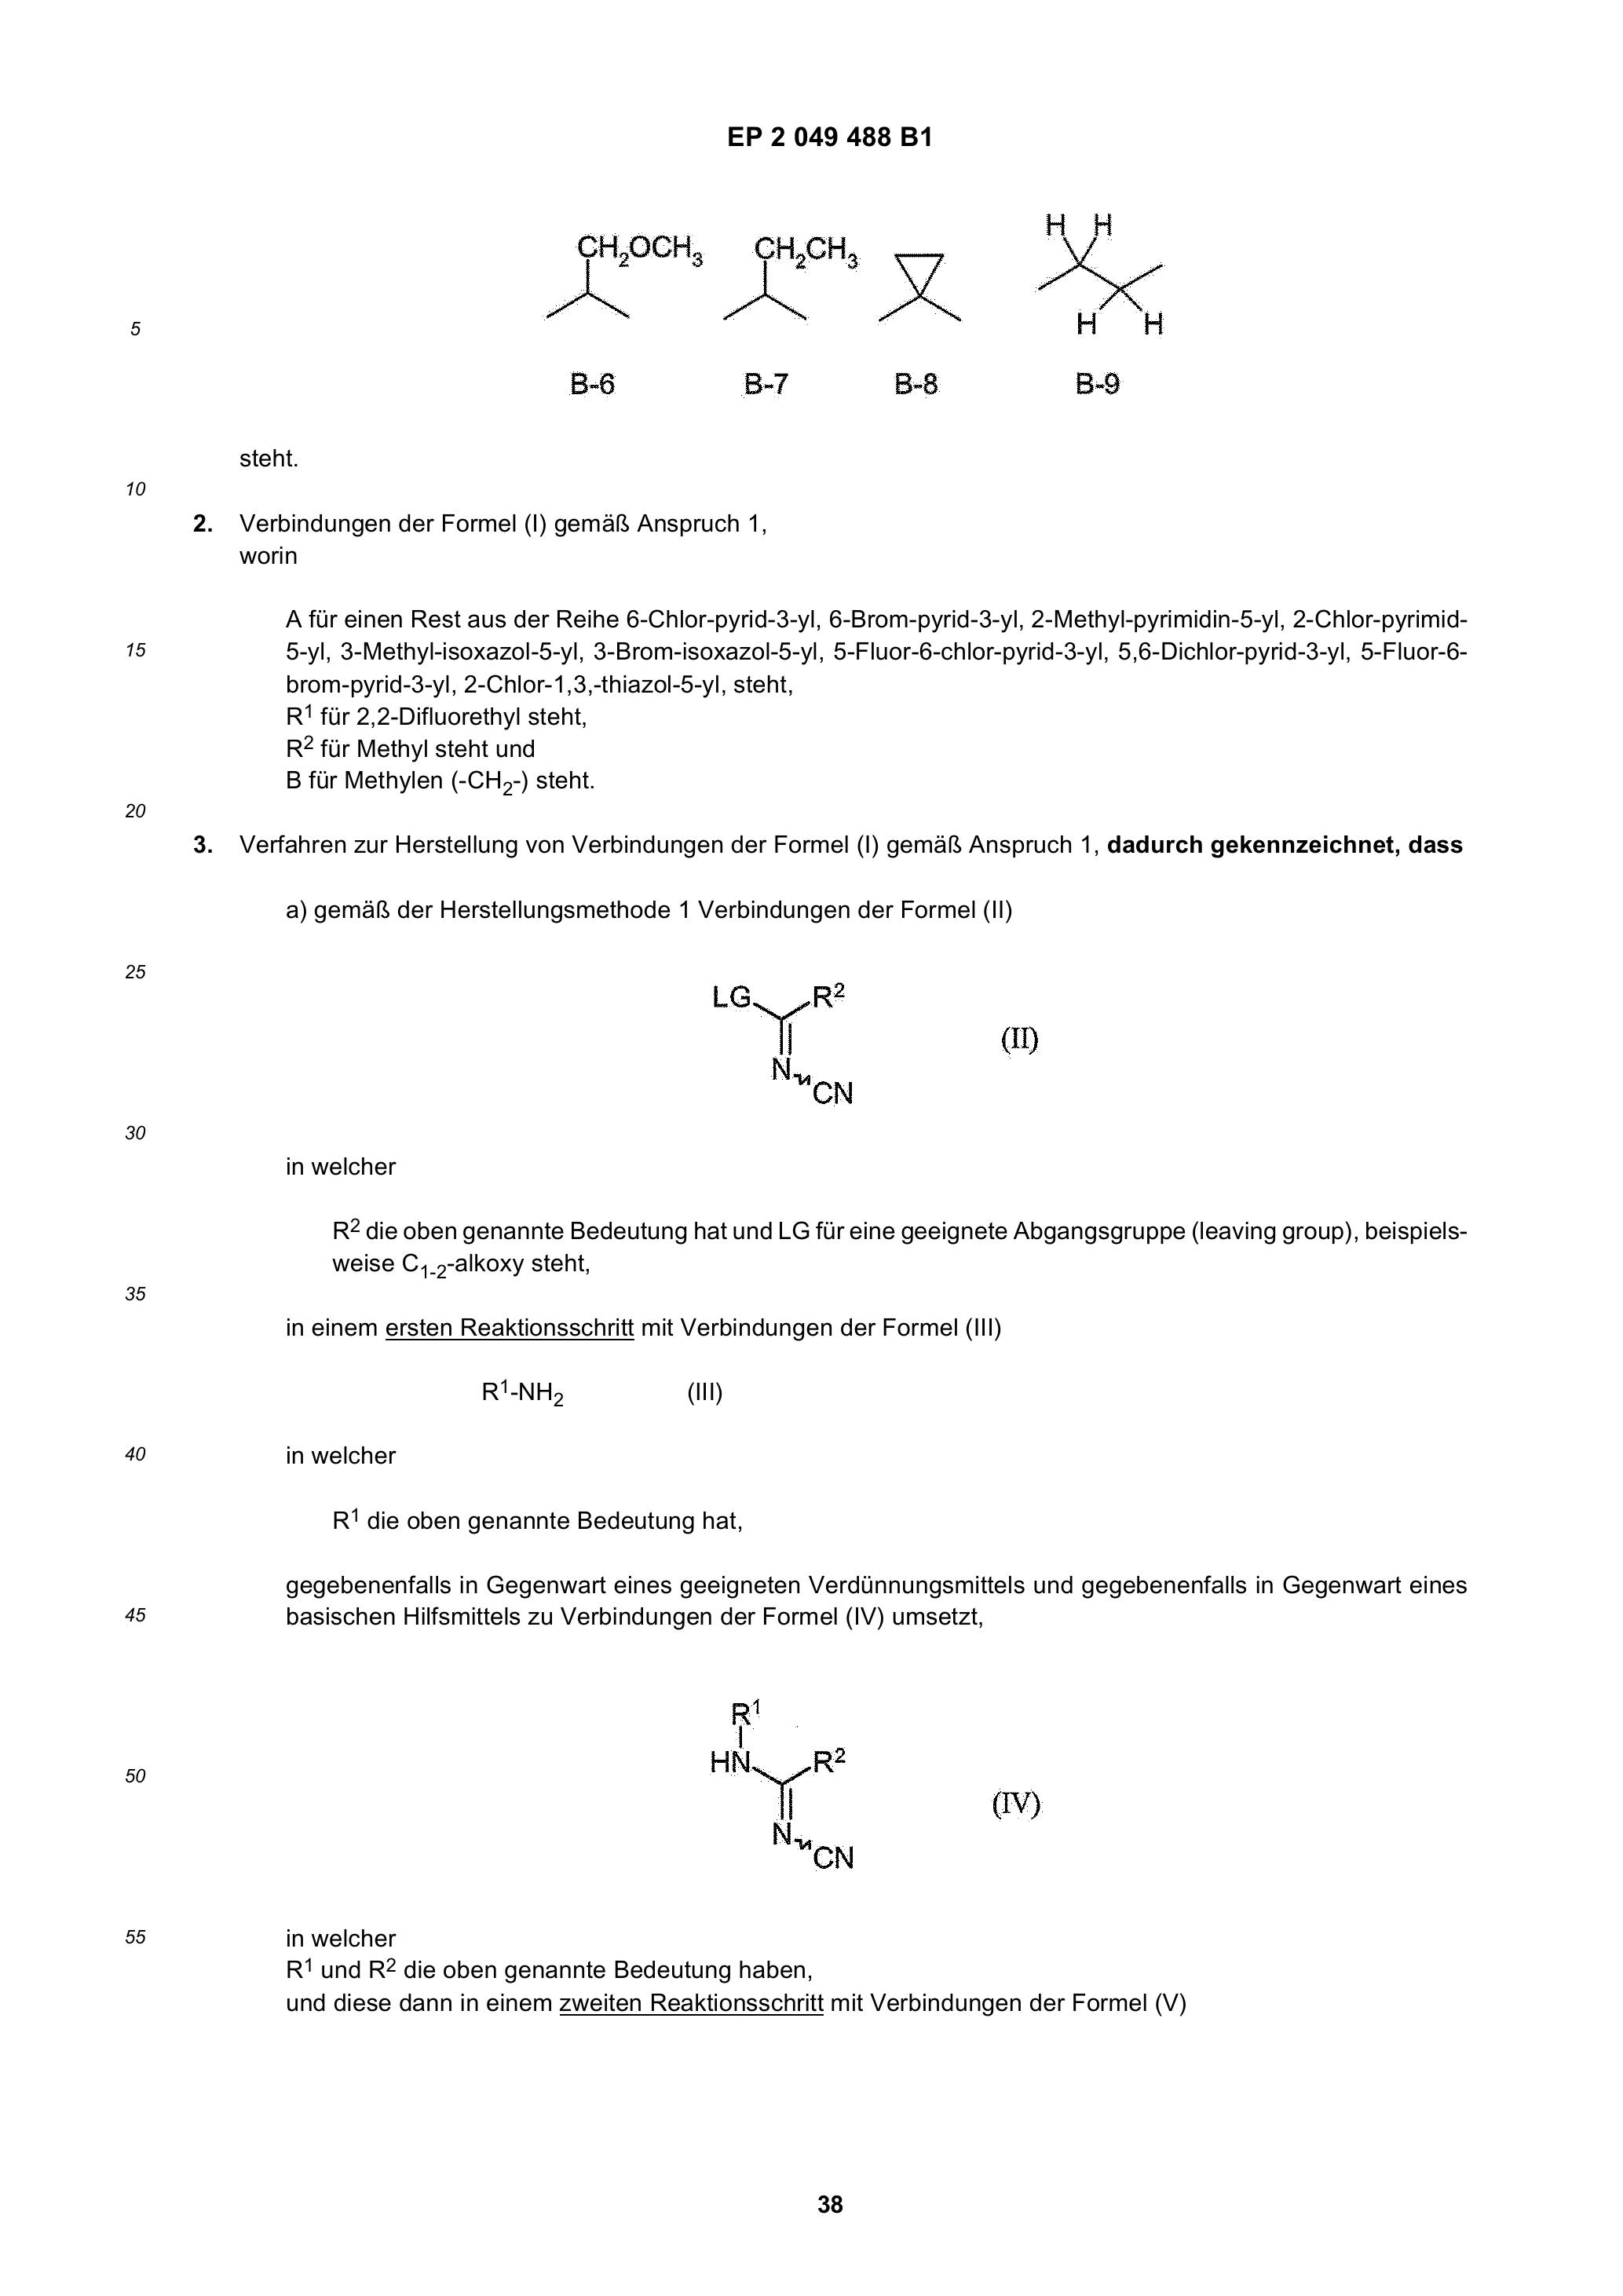markush-structures: (639, 1660, 869, 1873), (680, 959, 875, 1131)
substitutes: (499, 220, 701, 327), (1019, 199, 1168, 336), (727, 225, 845, 325), (882, 234, 961, 330)
